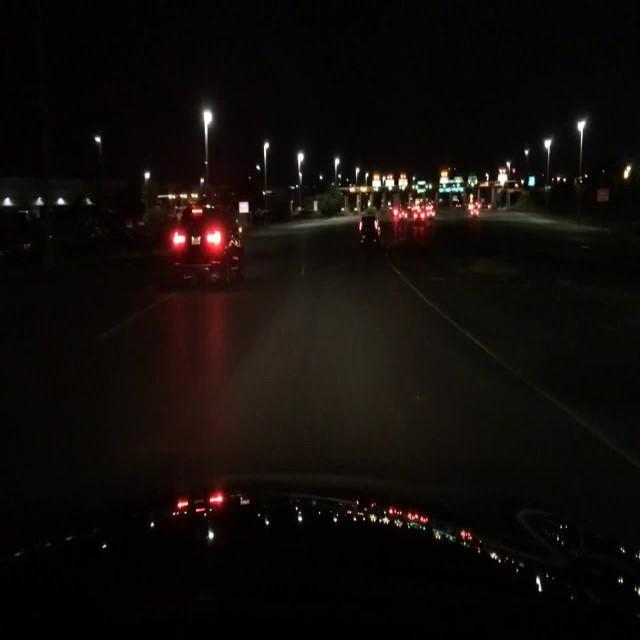normal: (135, 199, 284, 300)
